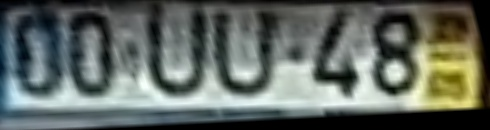0: (10, 11, 69, 100), (65, 10, 119, 102)
4: (309, 10, 364, 103)
8: (369, 10, 424, 98)
U: (145, 4, 211, 100), (212, 10, 280, 101)
